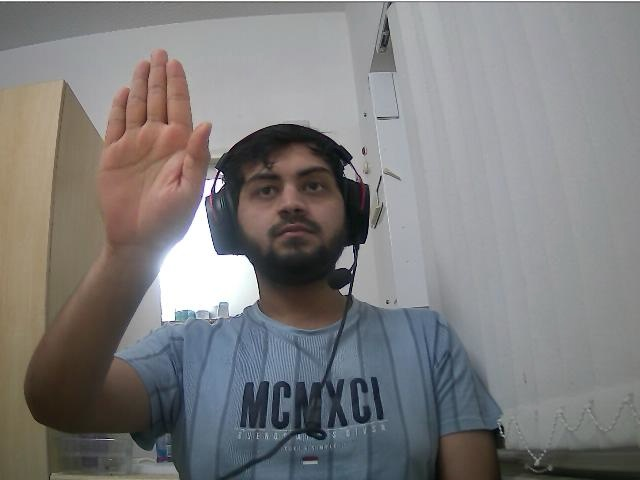up: (95, 49, 214, 232)
